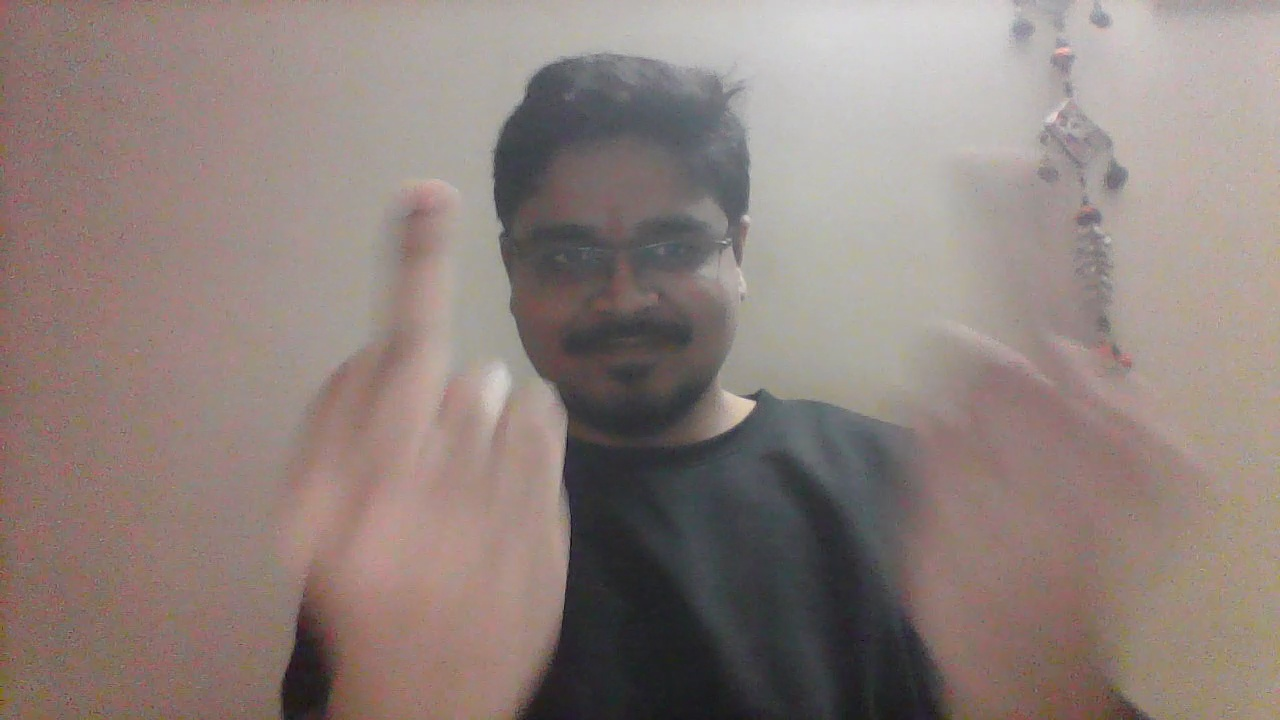Fuck Off: (282, 172, 564, 720)
